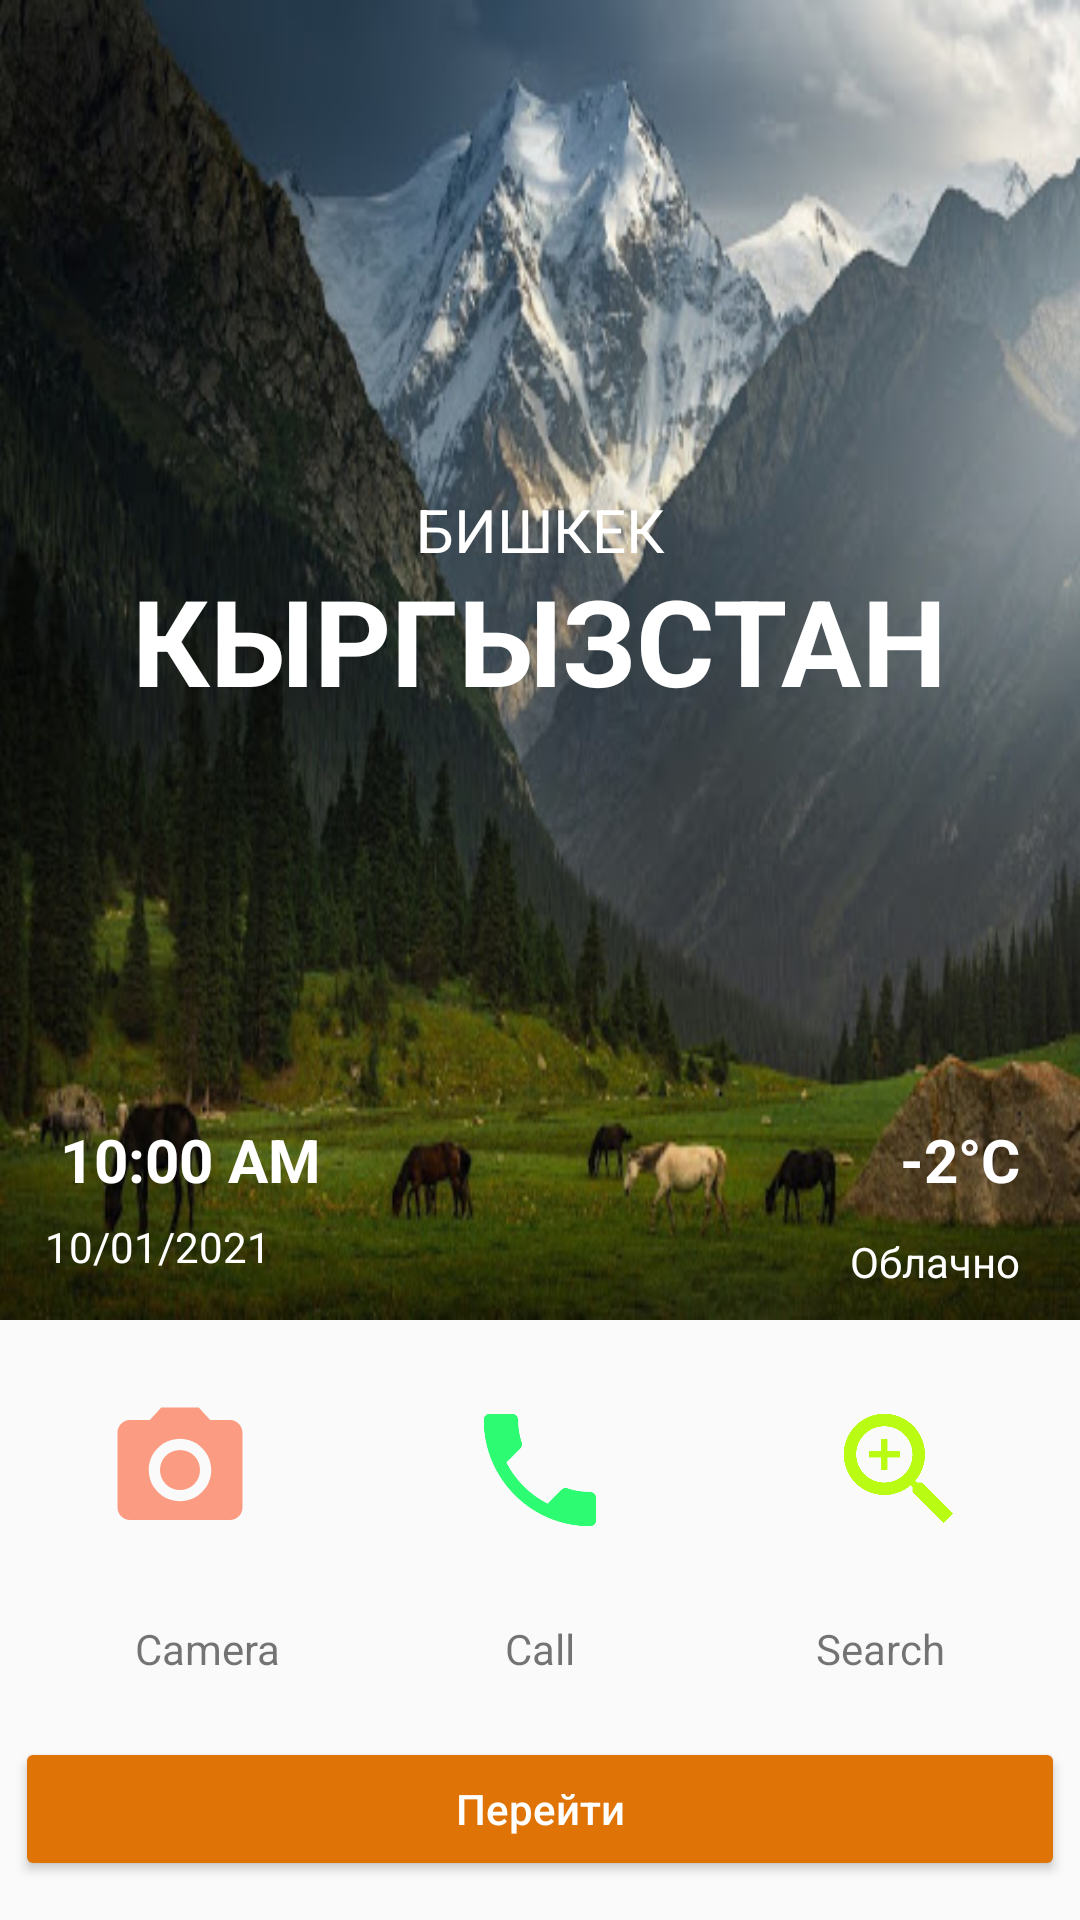

Screen size 1080×1920. Icon name, then its box in pixels as [x1, y1, x2, y2]:
phone: [484, 1414, 596, 1526]
zoom in: [844, 1414, 953, 1523]
